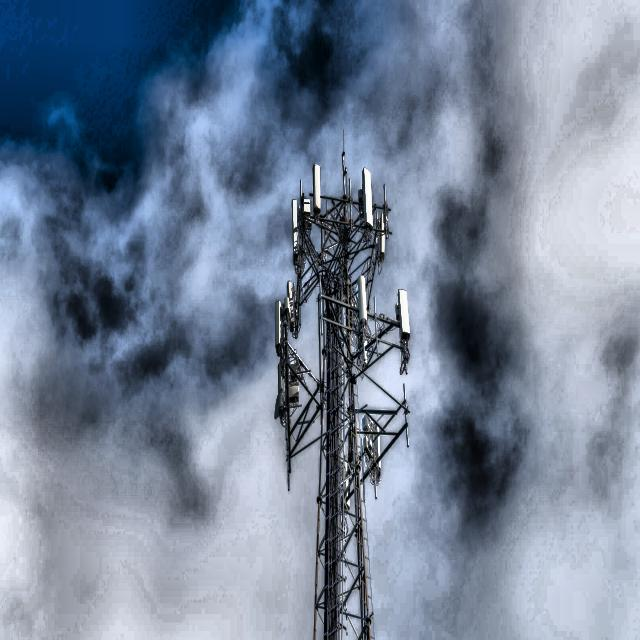antenna: (396, 289, 410, 338), (362, 168, 373, 226), (285, 281, 296, 333), (291, 199, 298, 260), (312, 164, 320, 213), (379, 210, 386, 261), (275, 300, 281, 354)
